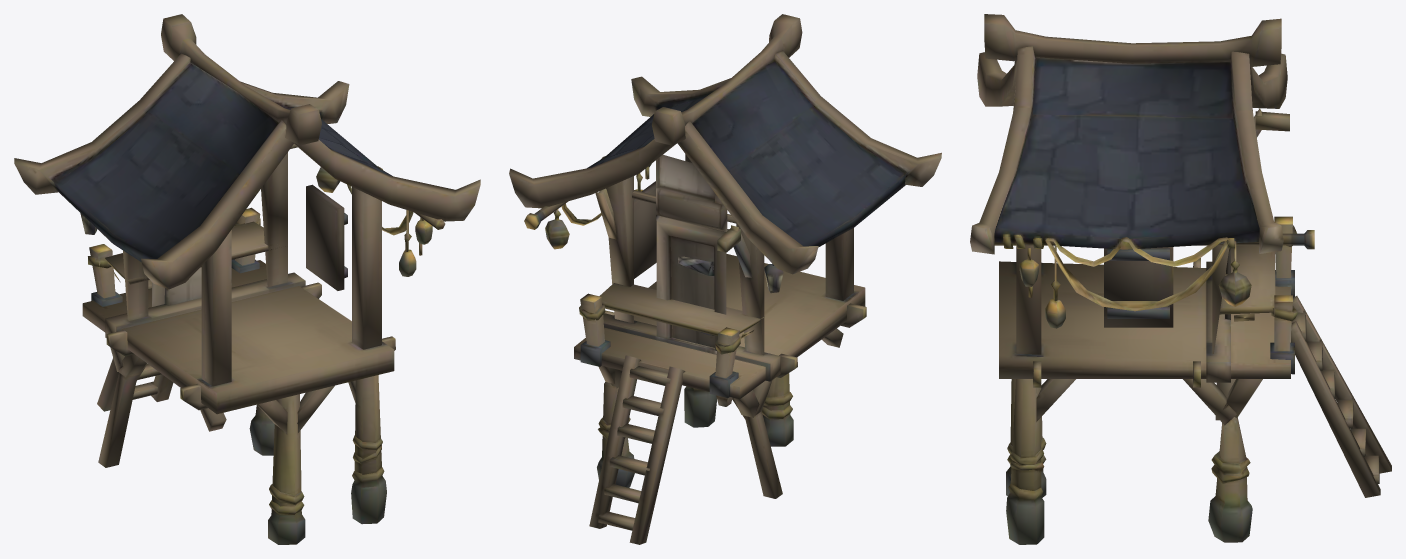
Rendered from ninebend_stilt_hut.glb.
3 renders of one model, left to right at view 1: azimuth 30°, elevation 25°; view 2: azimuth 150°, elevation 25°; view 3: azimuth 270°, elevation 25°, orthographic. The views are drawn at different scales.
Visible parts, largest first — view 1: tripo_node_b23f407b-e6cf-4a11-b970-468b4f370213; view 2: tripo_node_b23f407b-e6cf-4a11-b970-468b4f370213; view 3: tripo_node_b23f407b-e6cf-4a11-b970-468b4f370213.
Boxes of the visible parts, bbox=[...] form: tripo_node_b23f407b-e6cf-4a11-b970-468b4f370213: bbox=[14, 14, 480, 544]; tripo_node_b23f407b-e6cf-4a11-b970-468b4f370213: bbox=[509, 14, 941, 544]; tripo_node_b23f407b-e6cf-4a11-b970-468b4f370213: bbox=[970, 14, 1391, 544].
Bounding box in the file's own units: 4.16 × 5.2 × 4.16.
1 material, 1 textured.
